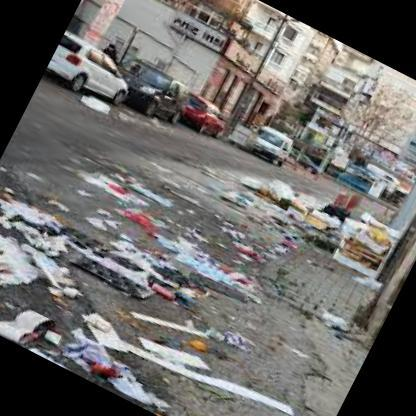Garbage: (0, 182, 198, 323), (0, 259, 105, 377), (0, 221, 104, 336), (249, 169, 320, 227), (278, 194, 335, 247)
